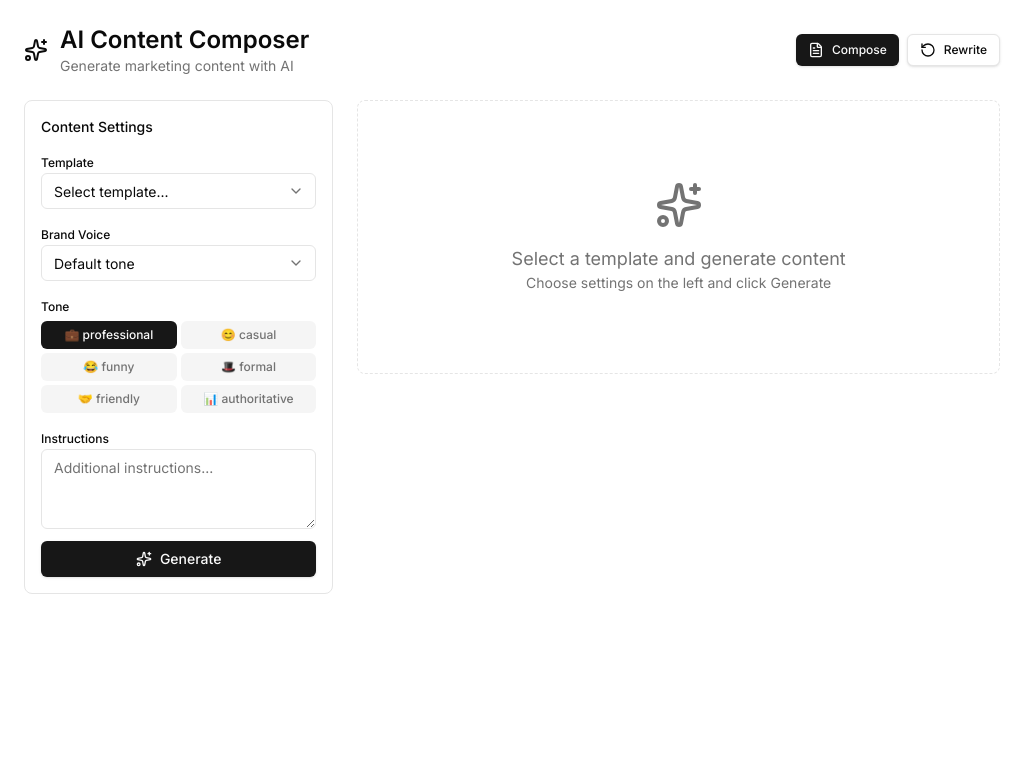
Test: AIContentPage › switches to rewrite mode and renders input
Click the button "Rewrite". click: x=953, y=50
box: [907,34,1000,66]
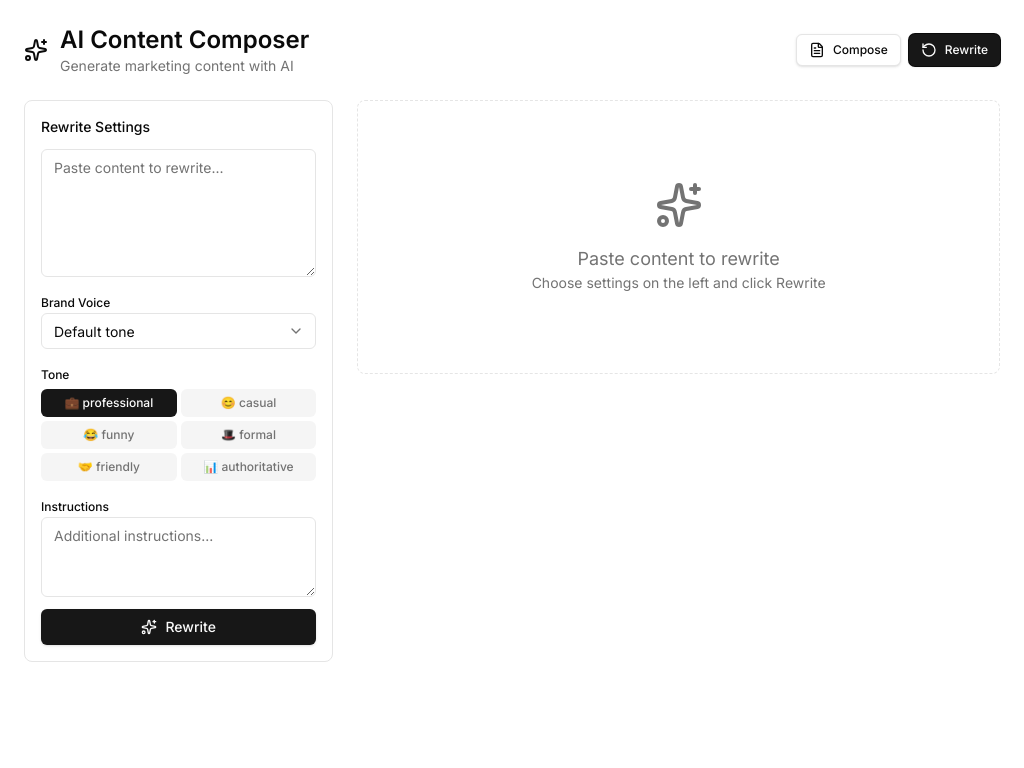
Expected: the text box with placeholder "Paste content to rewrite..." is shown, [41,149,316,277]
